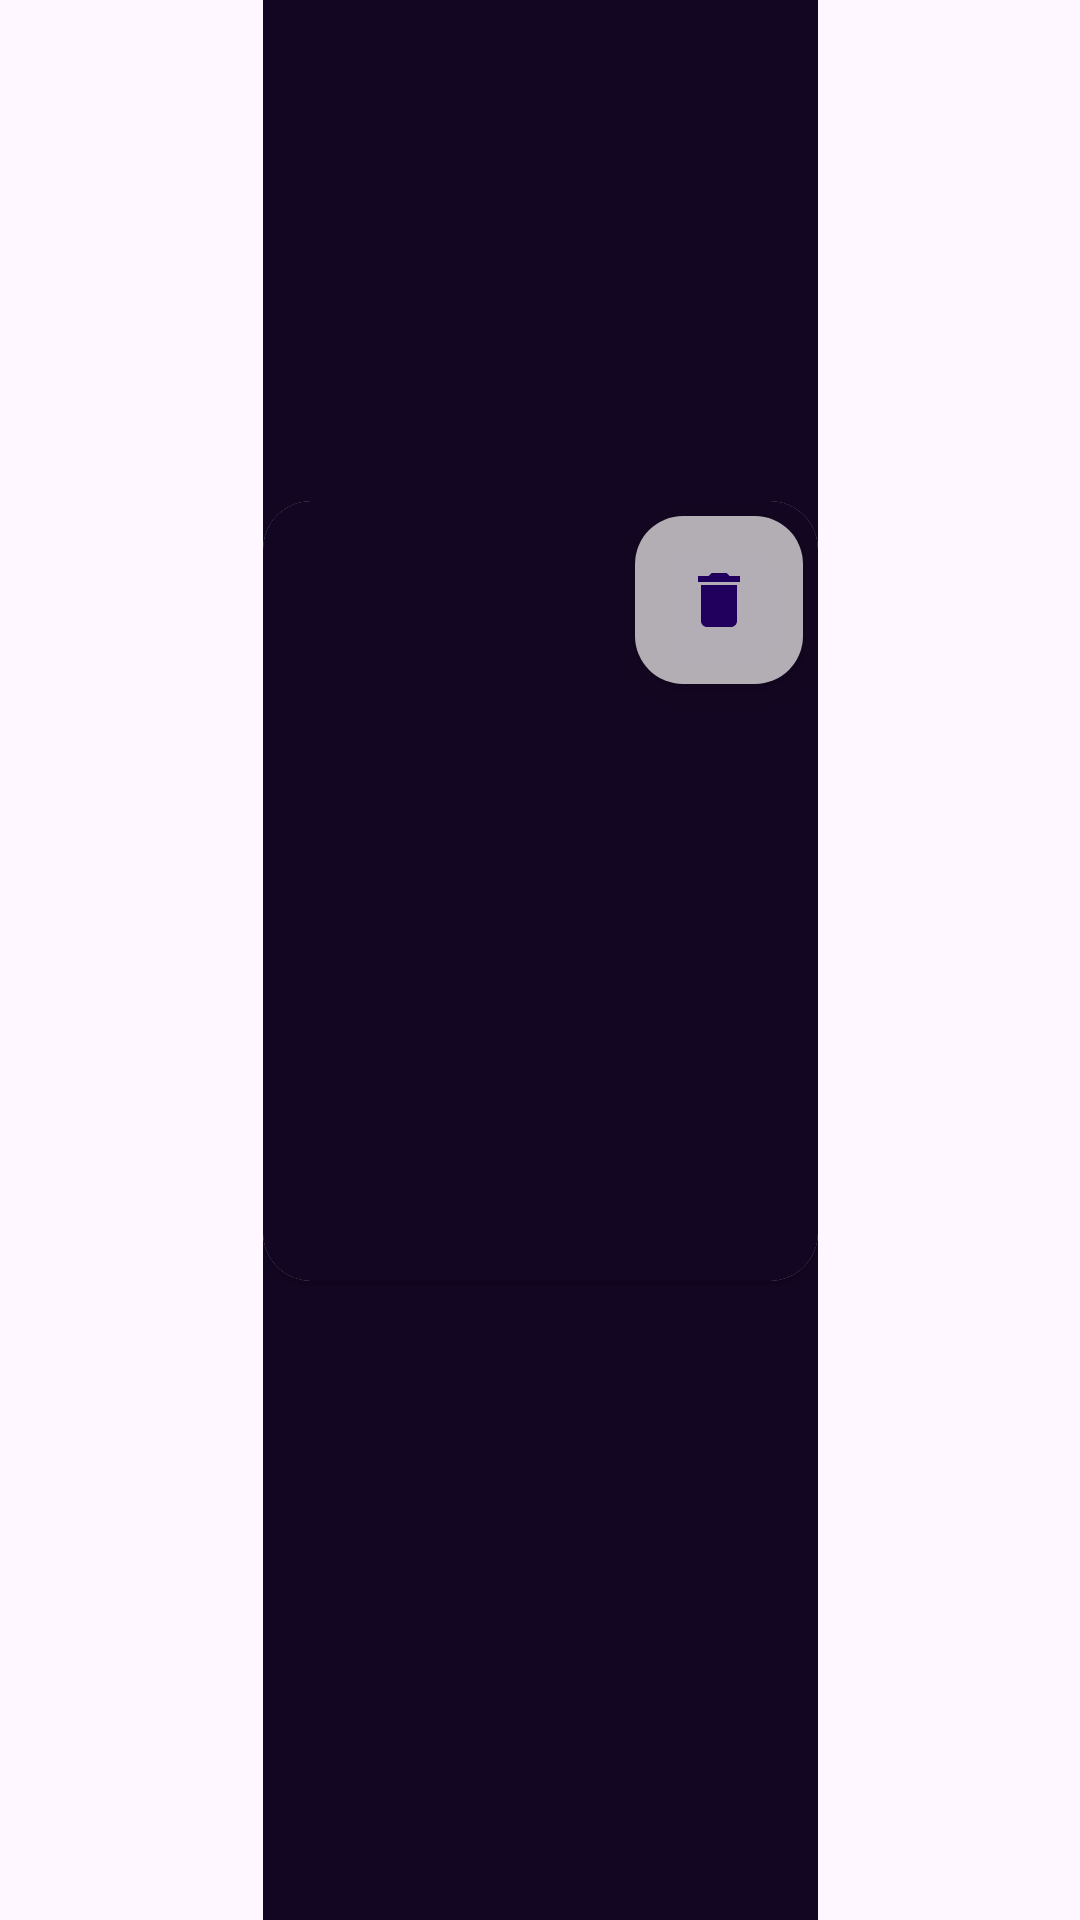

Named icons in this screenshot (1080×1920) and their centers, [x,y]:
delete: [719,600]
